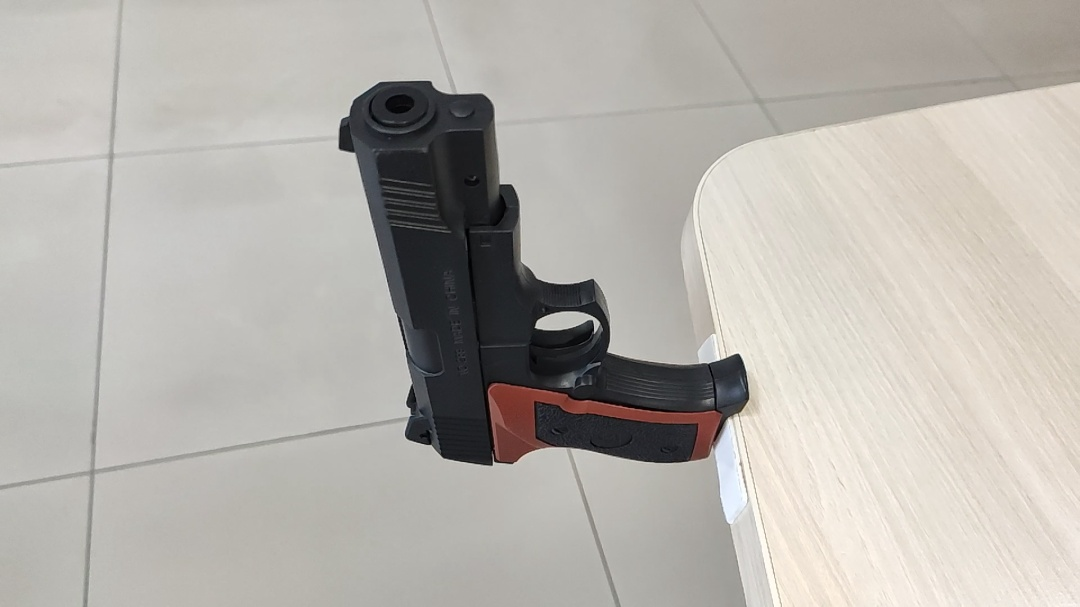gun: (336, 80, 750, 465)
